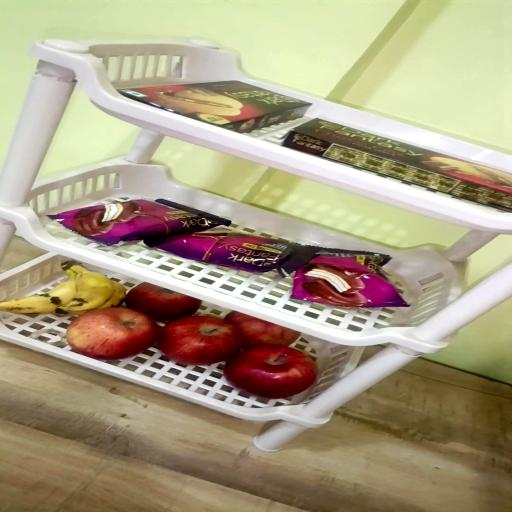Apple: (64, 308, 160, 360), (225, 346, 319, 399), (160, 316, 247, 366), (126, 284, 203, 323), (227, 312, 303, 348)
Choco Fills: (285, 119, 512, 210), (120, 80, 313, 133)
Choco Pie: (47, 201, 229, 248), (289, 249, 409, 308), (149, 233, 306, 276)
